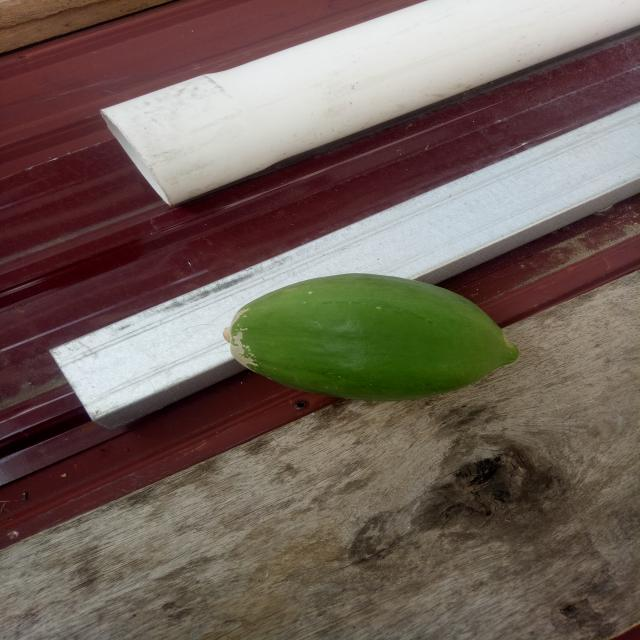Pepaya unrippen: (219, 272, 521, 405)
